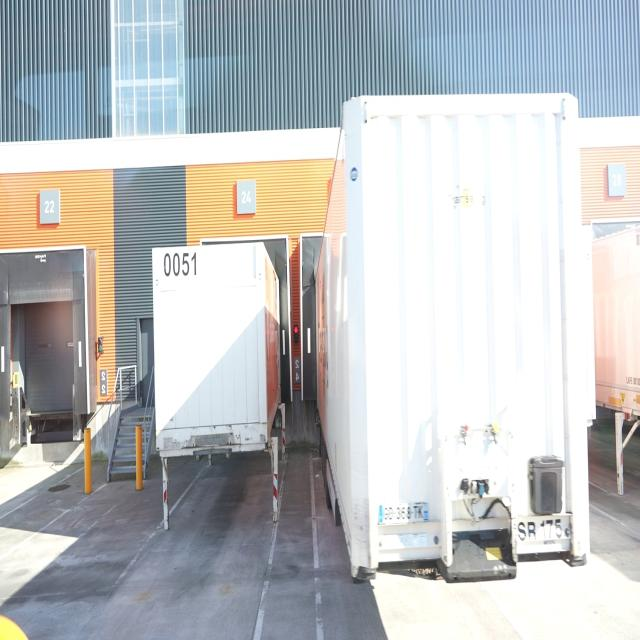Code: (159, 248, 201, 280)
